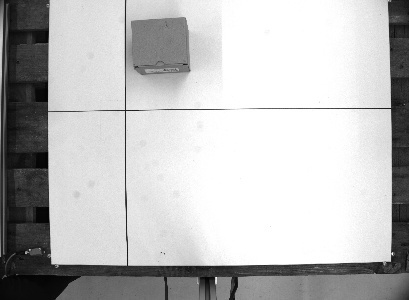b5: (127, 15, 194, 76)
